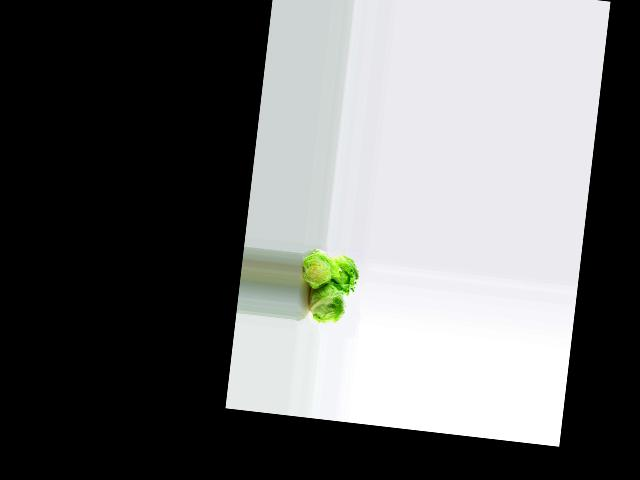lettuce: (325, 252, 364, 298)
